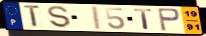5: (105, 7, 127, 30)
I: (92, 5, 103, 31)
P: (156, 7, 182, 33)
S: (47, 5, 73, 29)
T: (23, 4, 43, 28), (133, 9, 154, 31)
